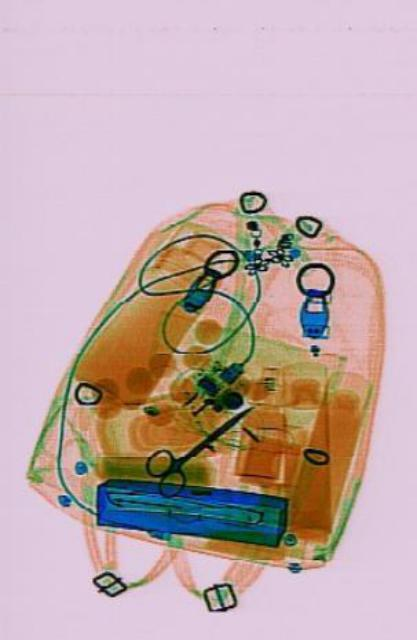Scissors: (141, 380, 260, 506)
